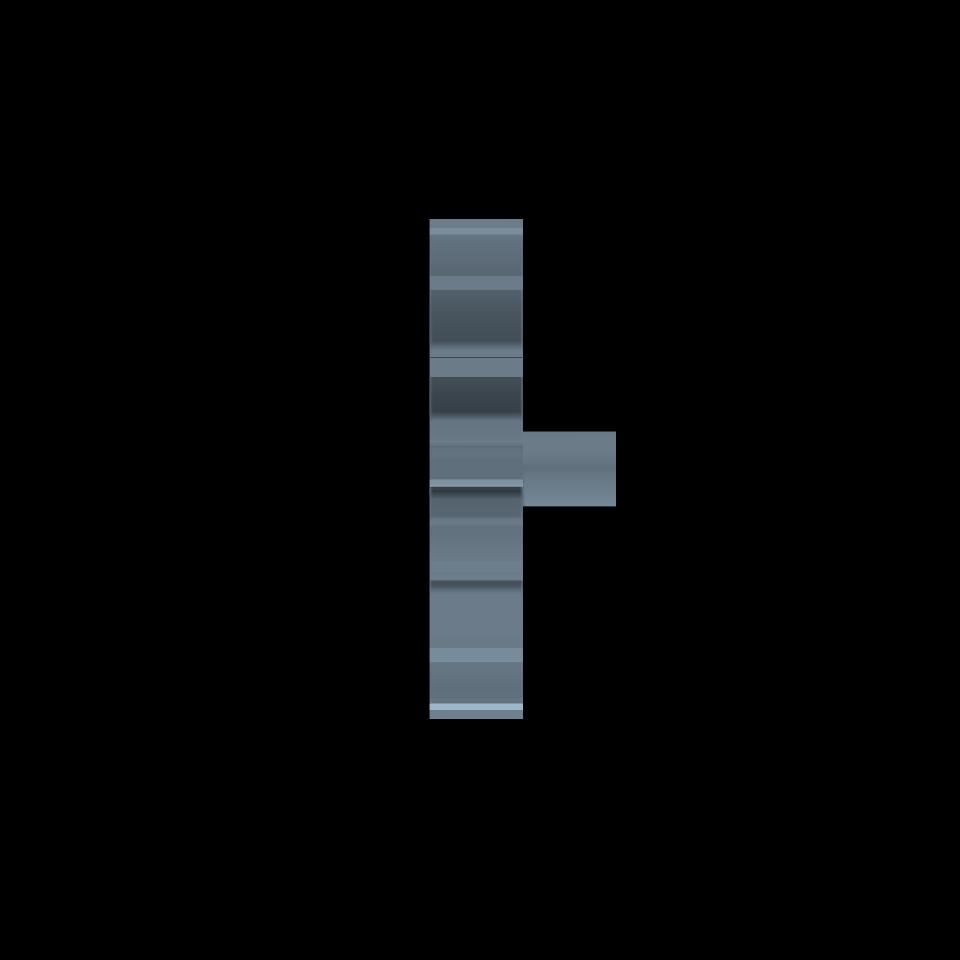Straight: (429, 219, 522, 719)
